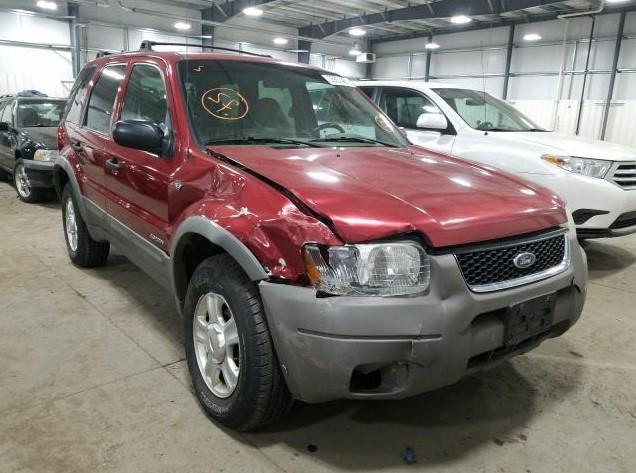Back-door: (69, 57, 129, 233)
Back-wheel: (62, 181, 110, 267)
Back-window: (84, 64, 126, 134), (61, 66, 97, 122)
Fender: (167, 143, 341, 309)
Front-bumper: (258, 228, 587, 404)
Front-door: (105, 56, 180, 276)
Front-wheel: (183, 254, 293, 432)
Front-window: (119, 64, 173, 139)
Grille: (454, 232, 567, 292)
Headlight: (303, 242, 432, 297), (566, 204, 577, 228)
Hood: (205, 143, 567, 247)
Mirror: (112, 120, 173, 159)
Quarter-panel: (53, 120, 91, 226)
Rocker-panel: (85, 225, 182, 316)
Roof: (180, 54, 316, 68)
Windshield: (177, 60, 409, 145)
